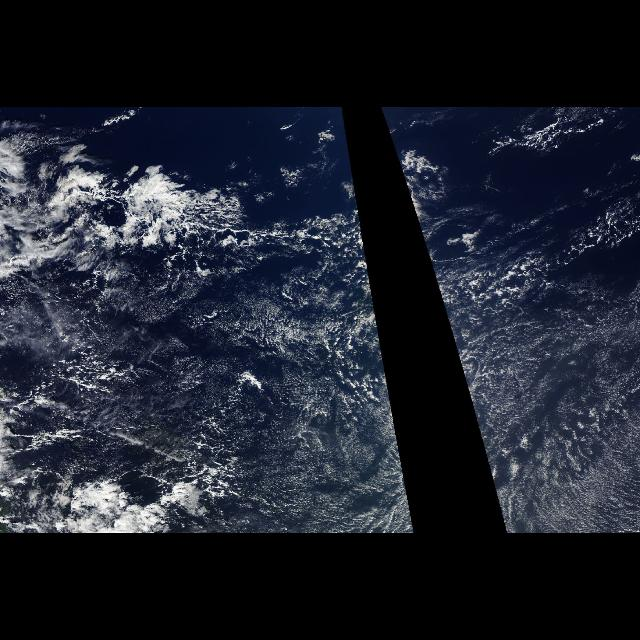Gravel: (465, 192, 639, 302), (156, 225, 372, 297)
Sugar: (452, 337, 640, 533), (361, 337, 417, 533)
